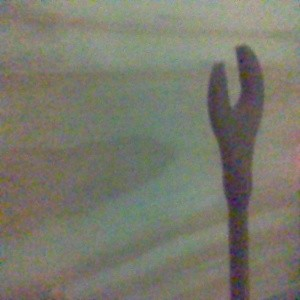spanner: (206, 43, 266, 300)
